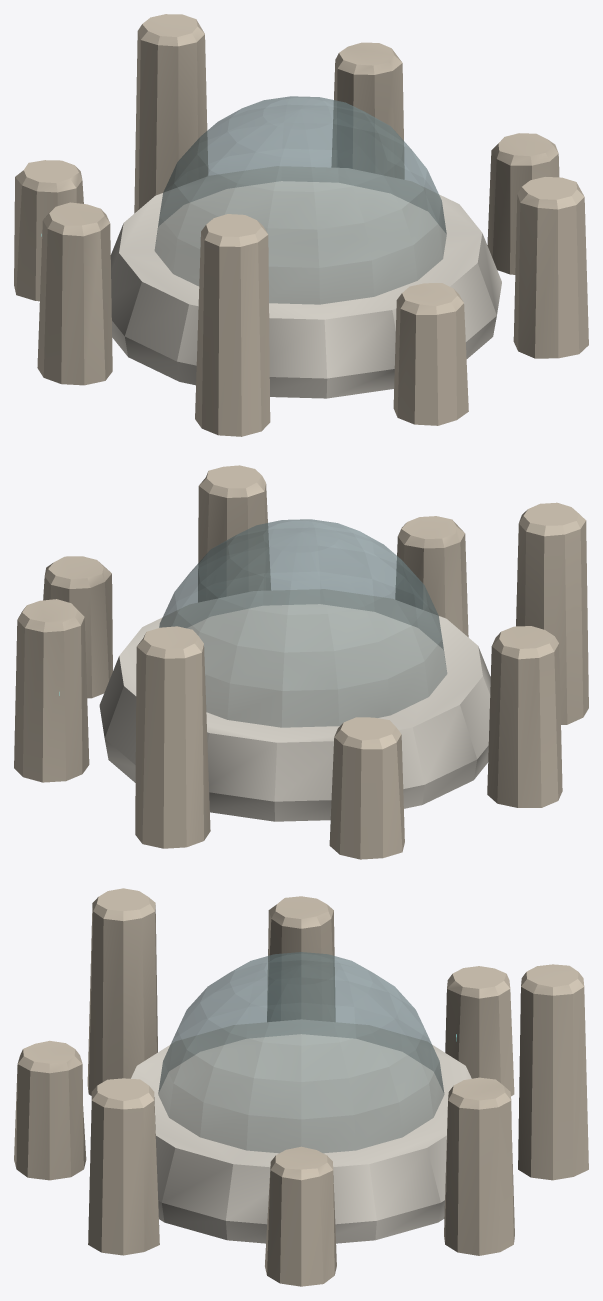
File: council_city.glb
The picture shows the model from 3 angles, top to bottom: view 1: azimuth 30°, elevation 25°; view 2: azimuth 150°, elevation 25°; view 3: azimuth 270°, elevation 25°; orthographic projection. The views are drawn at different scales.
Visible parts, largest first — view 1: council_city; view 2: council_city; view 3: council_city.
Part boxes in pixels (left/top/right/bottom): council_city: left=14, top=14, right=588, bottom=436; council_city: left=14, top=465, right=588, bottom=859; council_city: left=14, top=888, right=588, bottom=1286.
Size of the model in its own units: 29.8 by 11.4 by 29.71.
